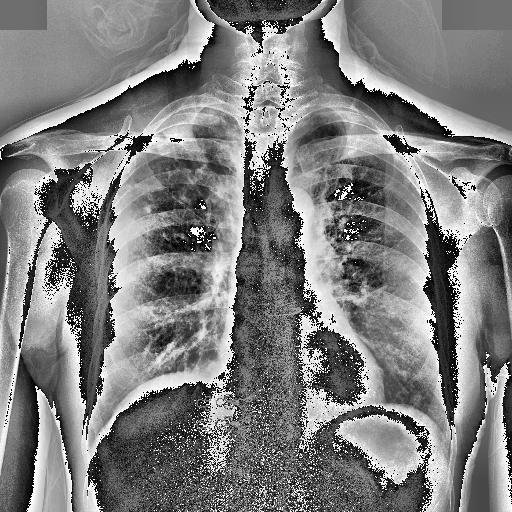11- Pleural thickening: (133, 104, 225, 153), (308, 105, 394, 144), (150, 103, 240, 140), (160, 105, 230, 138), (318, 106, 375, 126)
13- Pulmonary fibrosis: (126, 134, 214, 238), (138, 128, 234, 219)
5- ILD: (96, 146, 234, 420)
7- Lung Opacity: (357, 266, 440, 394)
